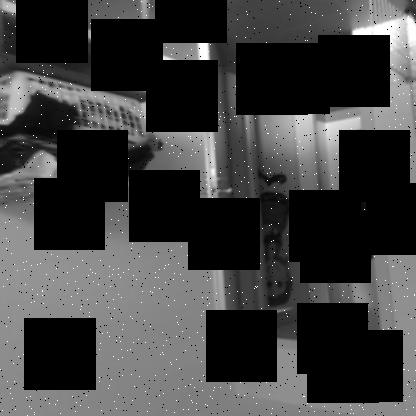Porte: (195, 1, 401, 377)
